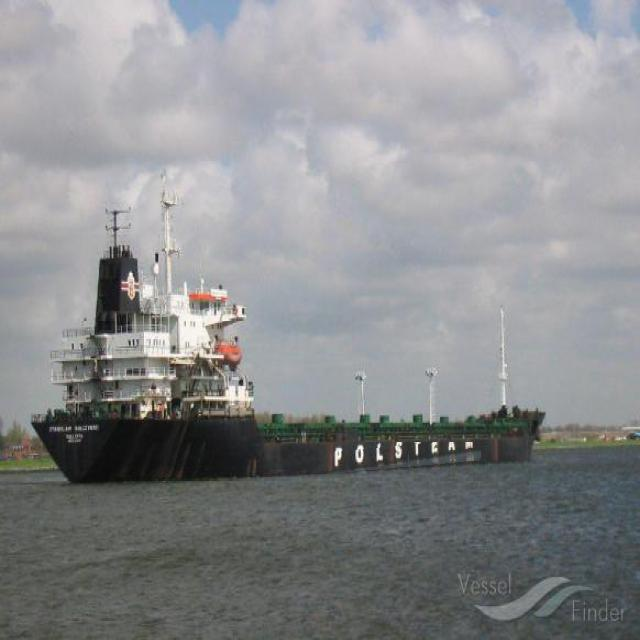OCR: (328, 442, 482, 474)
